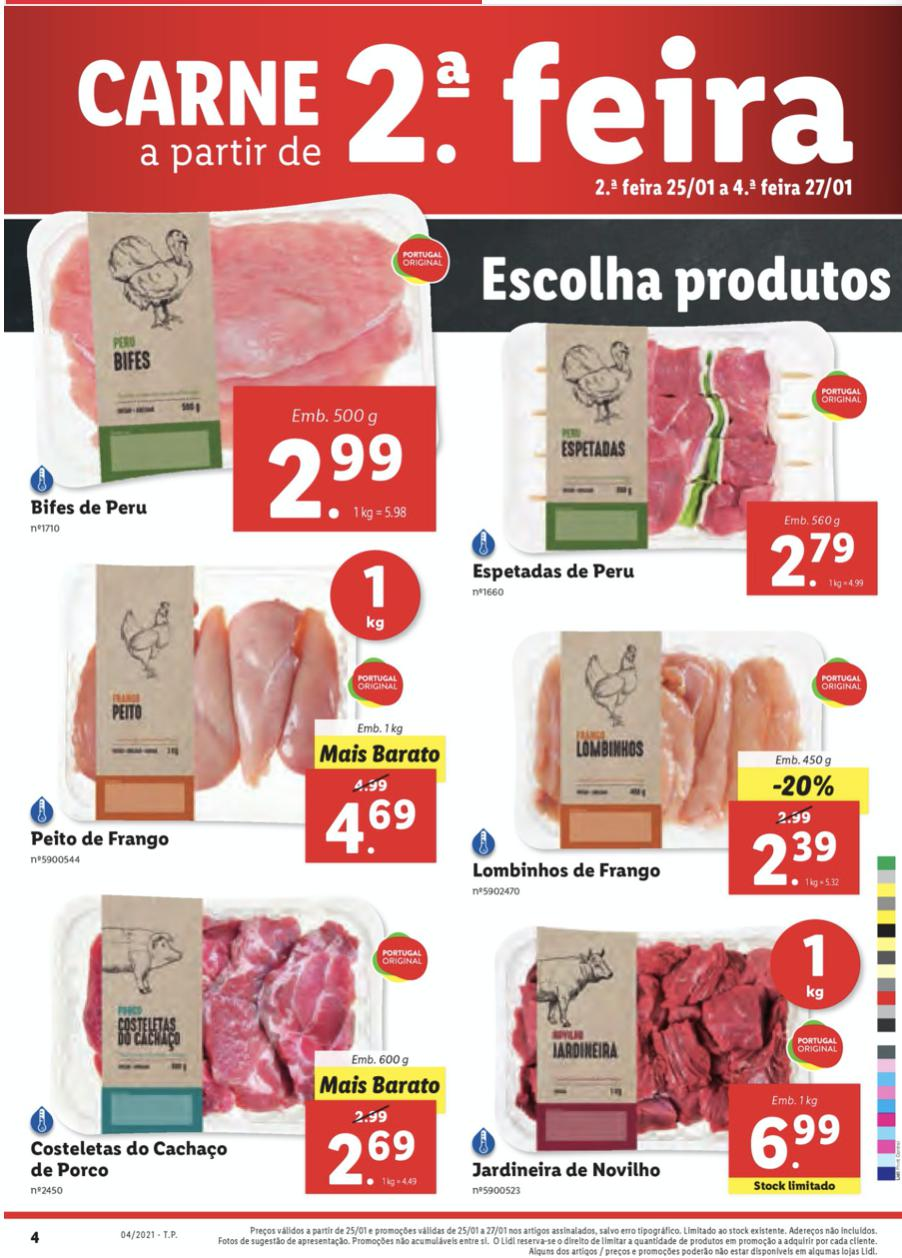name: (27, 1137, 232, 1180), (469, 859, 669, 884), (471, 1158, 668, 1183), (471, 559, 640, 584), (29, 825, 176, 853), (27, 495, 155, 523)
price: (263, 433, 408, 523), (324, 795, 422, 861), (751, 1111, 847, 1173), (766, 528, 860, 590), (751, 828, 843, 890), (327, 1130, 422, 1189)
product: (15, 184, 461, 540), (10, 880, 454, 1209), (11, 556, 454, 880), (463, 314, 888, 605), (463, 901, 871, 1197), (463, 605, 868, 901)
promotion: (769, 769, 838, 801)
